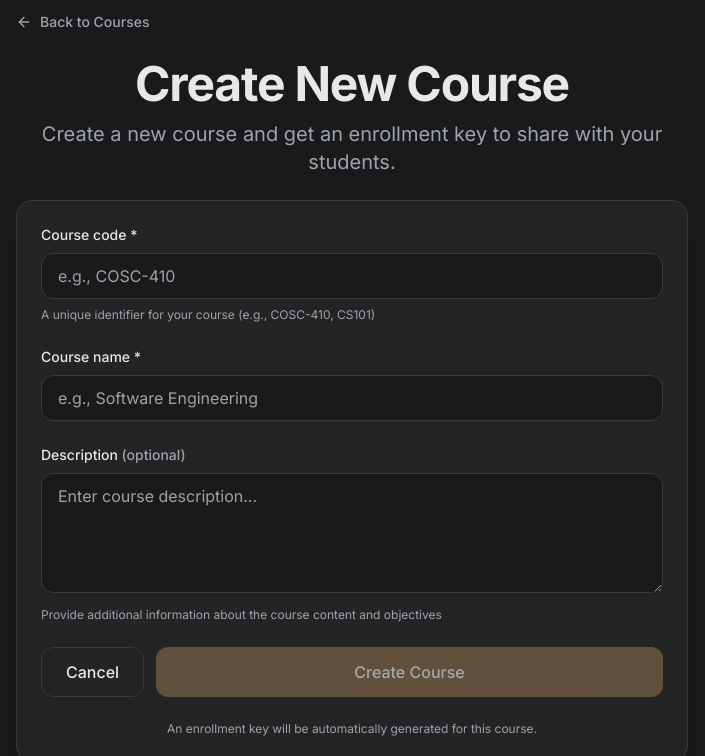
Test case: CreateCoursePage › disables submit until required fields are filled
expect the button "Create Course" is disabled: met, box [156,647,663,697]
Step 1. Type "COSC-300" into the field labelled "Course code *" → (352, 276), box [41,253,663,299]
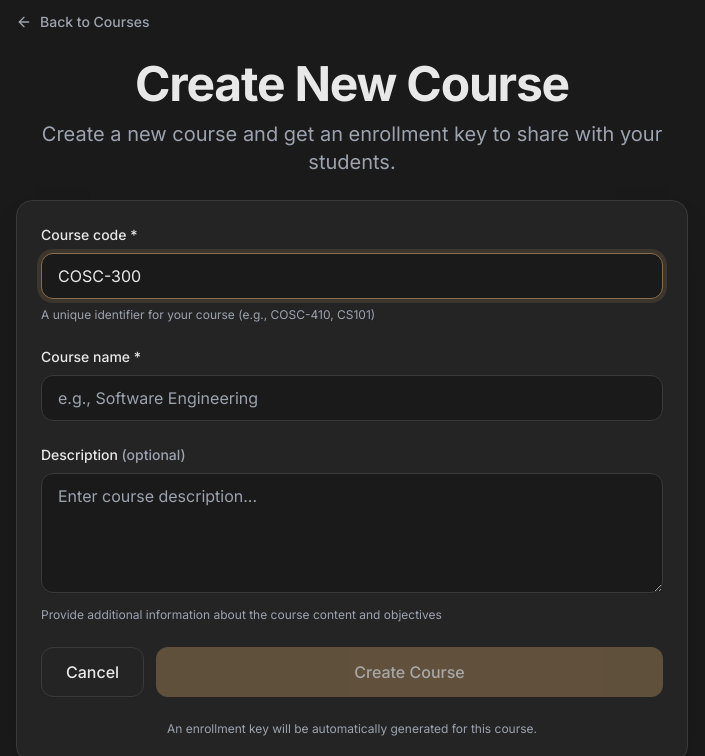
expect the button "Create Course" is disabled: met, box [156,647,663,697]
Step 2. Type "Data Structures" into the field labelled "Course name *" → (352, 398), box [41,375,663,421]
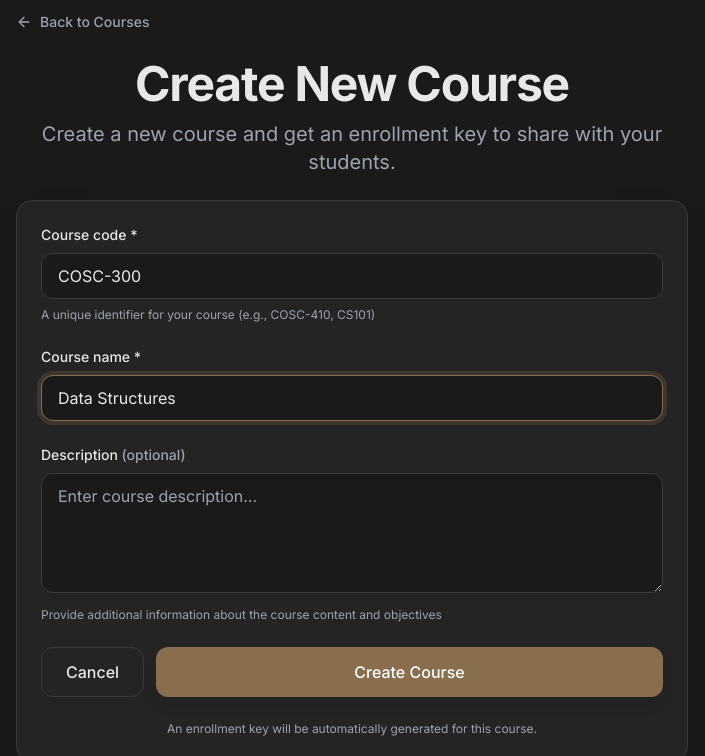
expect the button "Create Course" is enabled: met, box [156,647,663,697]
